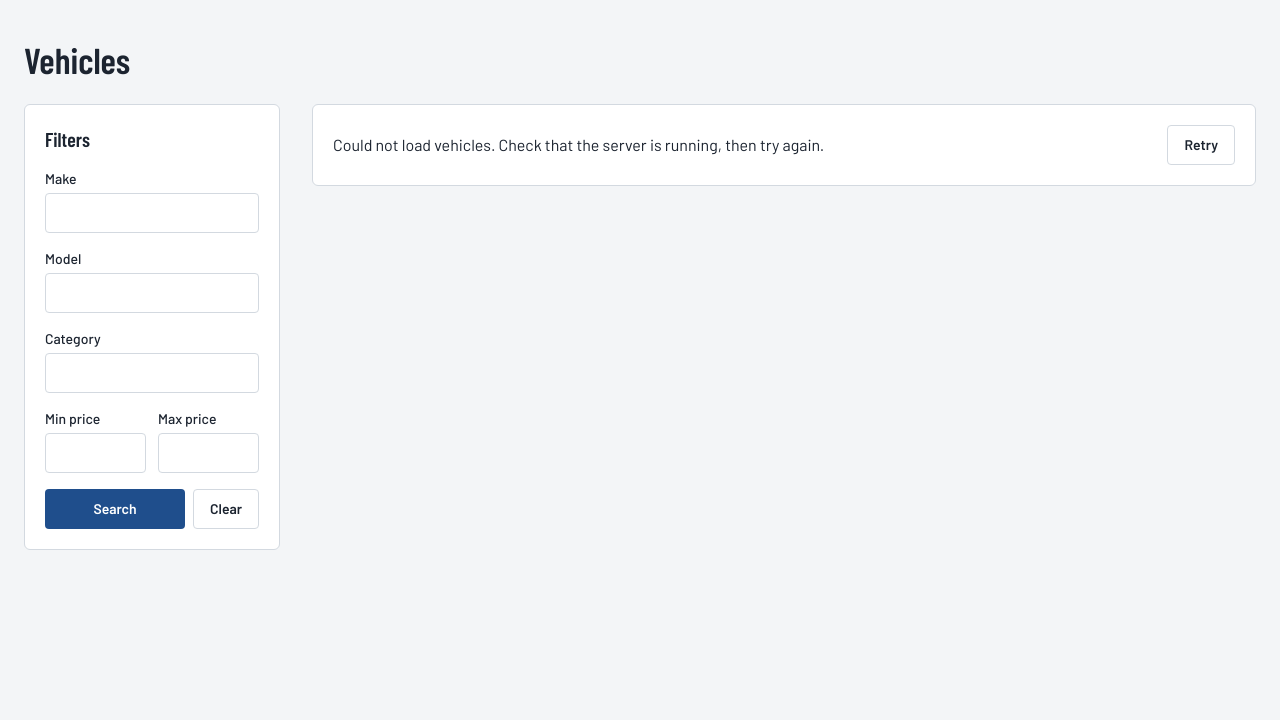
it: shows an error with Retry, which loads the vehicles again
Expected: the message shows "Could not load vehicles", left=333, top=135, right=824, bottom=154
Click the button "Retry": (1201, 145) left=1168, top=125, right=1235, bottom=165
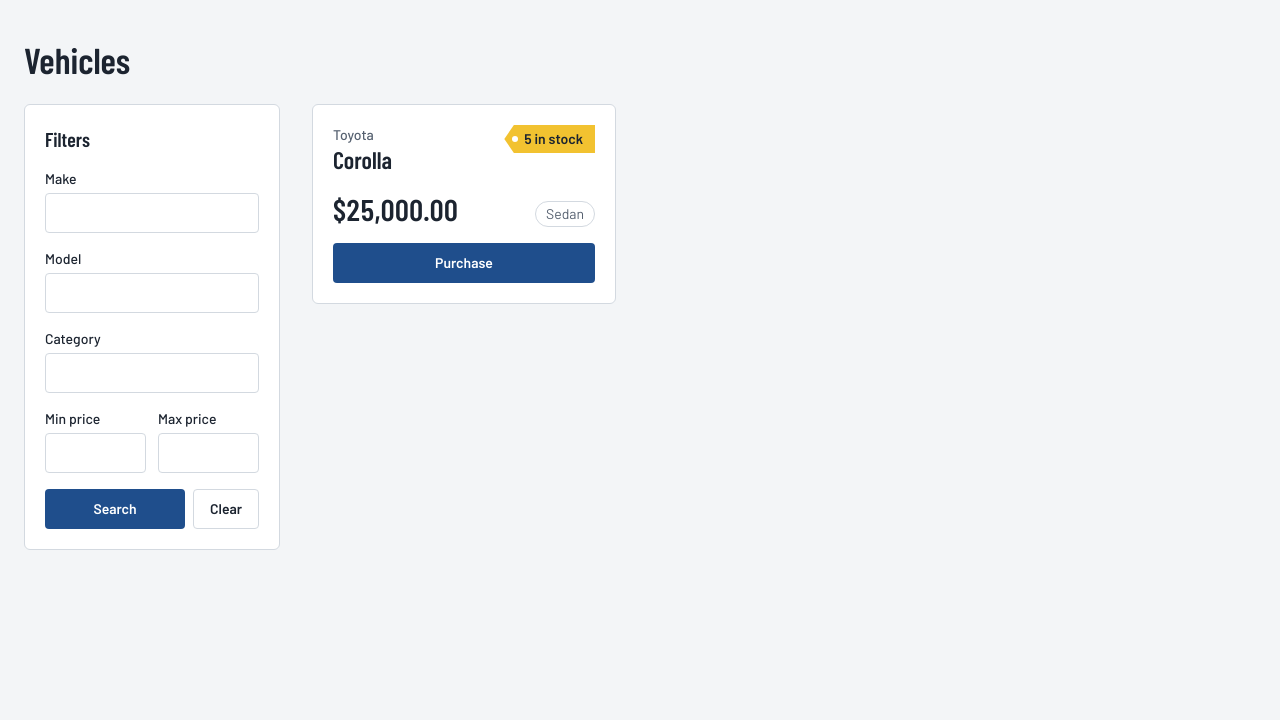
Now the heading "Toyota Corolla" is shown, box left=333, top=125, right=392, bottom=175
Now the message is gone
